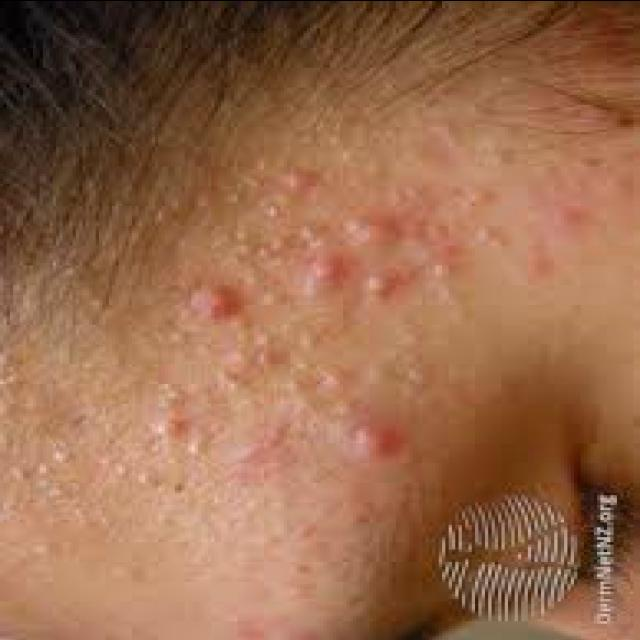Acne: (346, 419, 412, 462), (185, 277, 243, 325), (302, 250, 360, 293), (342, 208, 402, 248), (362, 262, 404, 306), (272, 162, 322, 195), (146, 412, 193, 444)
